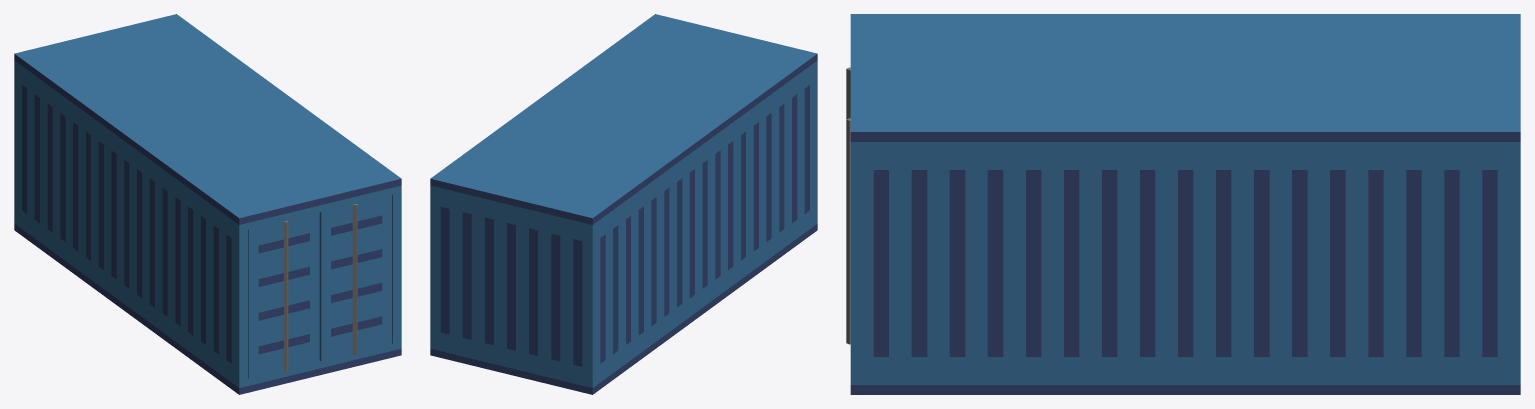
File: cargo-shipping_blue.glb
3 views of the same model, side by side, from view 1: azimuth 30°, elevation 25°; view 2: azimuth 150°, elevation 25°; view 3: azimuth 270°, elevation 25° (orthographic). The views are drawn at different scales.
Parts seen in each view (by area): view 1: cargo-shipping-base_blue, cargo-shipping-door_L_blue, cargo-shipping-door_R_blue; view 2: cargo-shipping-base_blue; view 3: cargo-shipping-base_blue, cargo-shipping-door_L_blue.
Part boxes in pixels (x1,y1,x2,y2): cargo-shipping-base_blue: [14, 14, 401, 394]; cargo-shipping-door_L_blue: [319, 194, 391, 361]; cargo-shipping-door_R_blue: [248, 212, 319, 378]; cargo-shipping-base_blue: [430, 14, 817, 394]; cargo-shipping-base_blue: [850, 14, 1520, 394]; cargo-shipping-door_L_blue: [846, 118, 850, 344].
Bounding box in the file's own units: 2.5 × 2.6 × 6.04.
1 material, 1 textured.
